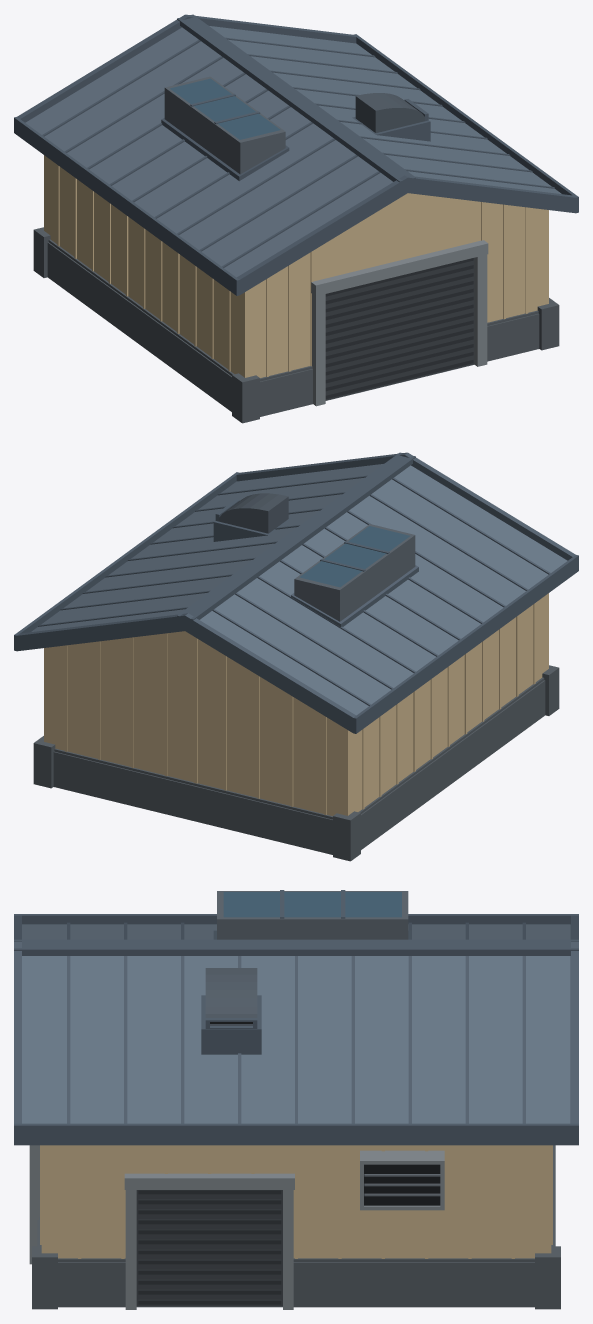
The model's file is warehouse a.fbx.
3 renders of one model, top to bottom at view 1: azimuth 30°, elevation 25°; view 2: azimuth 150°, elevation 25°; view 3: azimuth 270°, elevation 25°, orthographic. The views are drawn at different scales.
Parts seen in each view (by area): view 1: Warehouse_A_Small; view 2: Warehouse_A_Small; view 3: Warehouse_A_Small.
Part boxes in pixels (x1=…): Warehouse_A_Small: x1=14, y1=14, x2=578, y2=423; Warehouse_A_Small: x1=14, y1=452, x2=578, y2=861; Warehouse_A_Small: x1=14, y1=890, x2=578, y2=1309.
Bounding box in the file's own units: 924 × 550 × 1042.
